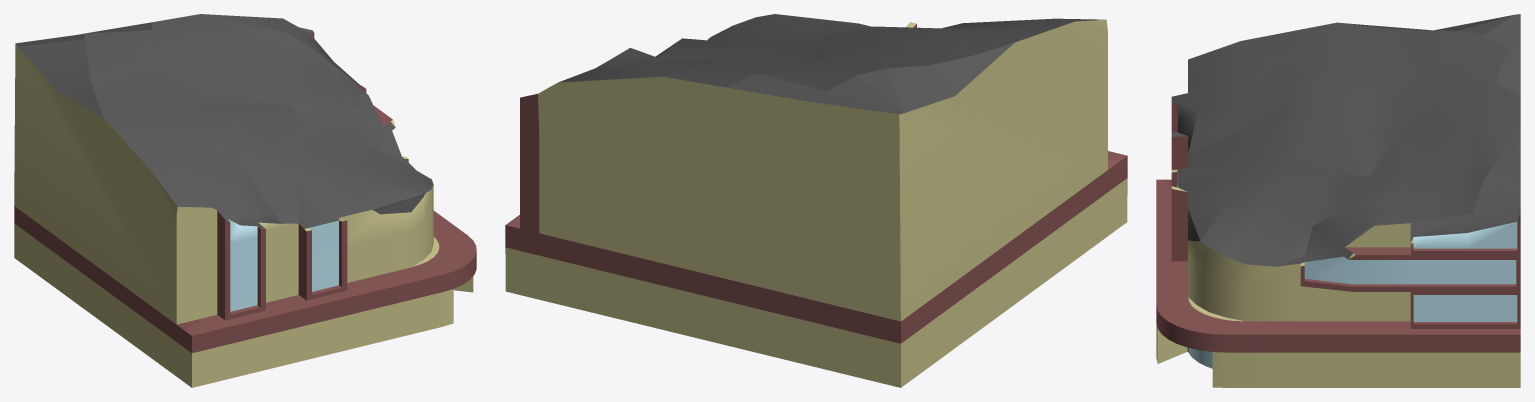
The picture shows the model from 3 angles, left to right: view 1: azimuth 30°, elevation 25°; view 2: azimuth 150°, elevation 25°; view 3: azimuth 270°, elevation 25°; orthographic projection. The views are drawn at different scales.
Visible parts, largest first — view 1: Cube.009; view 2: Cube.009; view 3: Cube.009.
Part boxes in pixels (<box>): Cube.009: <box>14,14,476,387</box>; Cube.009: <box>505,14,1127,387</box>; Cube.009: <box>1156,14,1520,387</box>.
Bounding box in the file's own units: 400 × 270 × 397.
